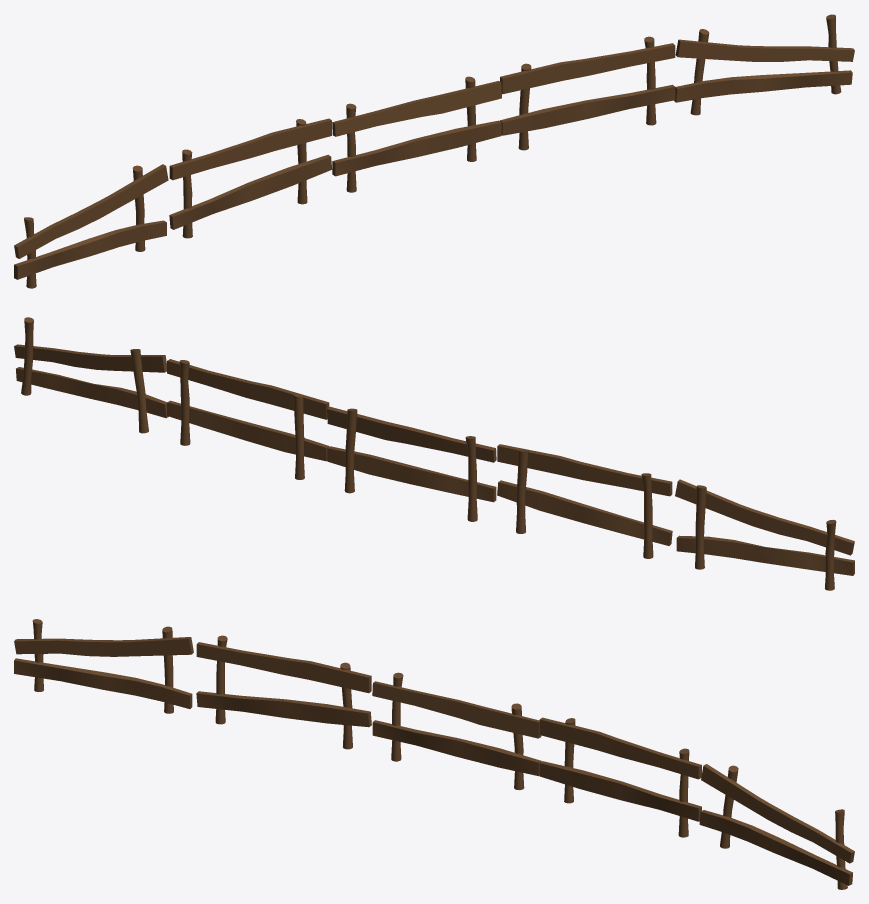
Rendered from SM_fence_preset.fbx.
The picture shows the model from 3 angles, top to bottom: view 1: azimuth 30°, elevation 25°; view 2: azimuth 150°, elevation 25°; view 3: azimuth 330°, elevation 25°; orthographic projection.
Visible parts, largest first — view 1: Cylinder062; view 2: Cylinder062; view 3: Cylinder062.
Part boxes in pixels (x1,y1,x2,y2): Cylinder062: [14, 14, 854, 288]; Cylinder062: [14, 317, 854, 590]; Cylinder062: [14, 619, 854, 889].
Size of the model in its own units: 397 by 38.61 by 22.96.
